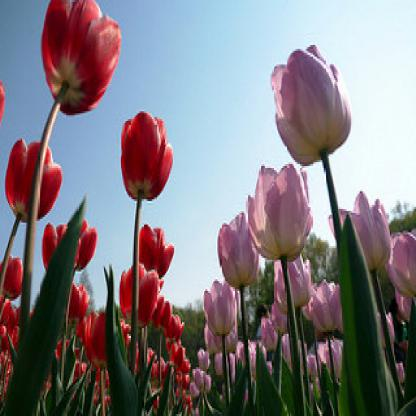TULIP: (18, 9, 404, 399)
